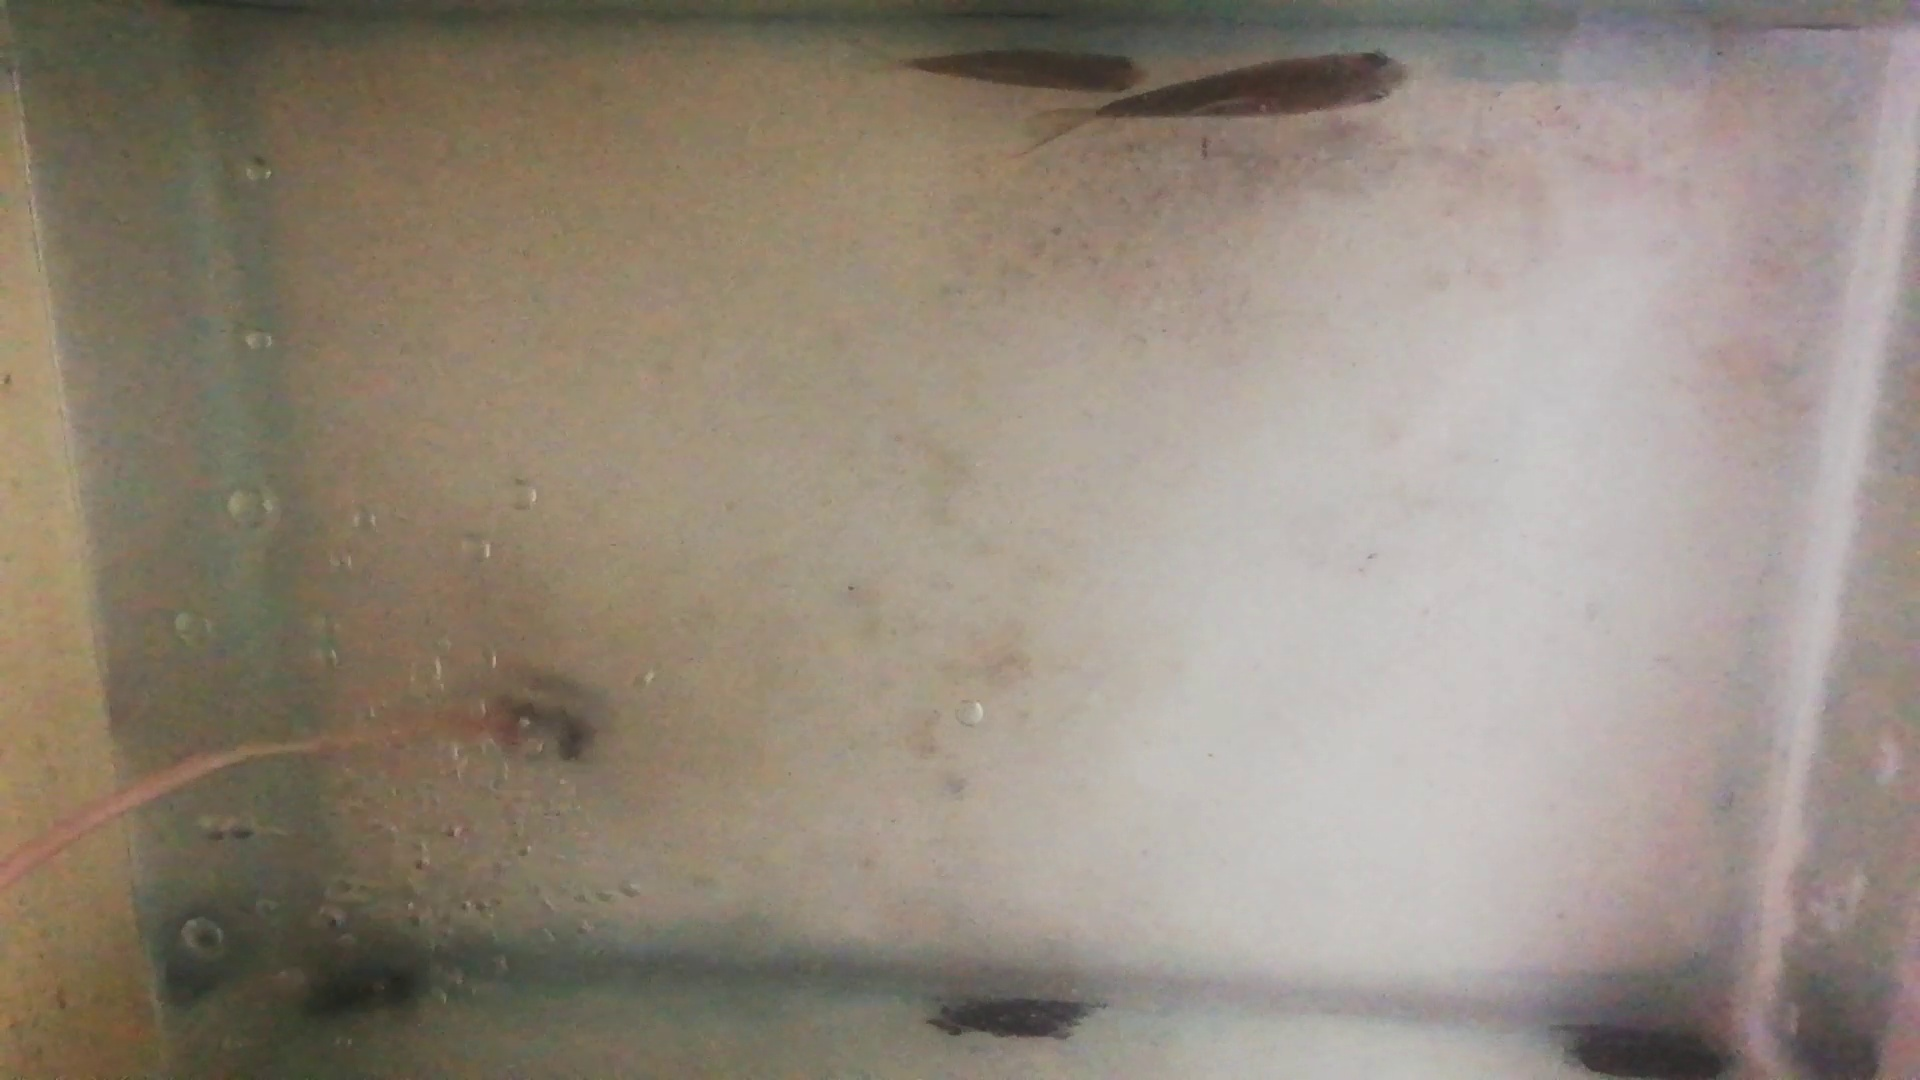fish: (1096, 51, 1414, 121), (907, 47, 1149, 98)
